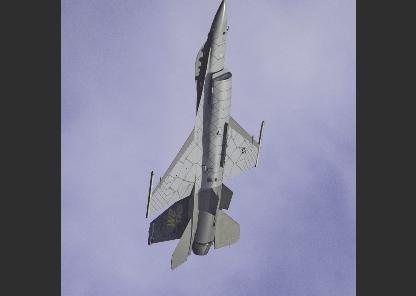F14: (144, 0, 264, 274)
